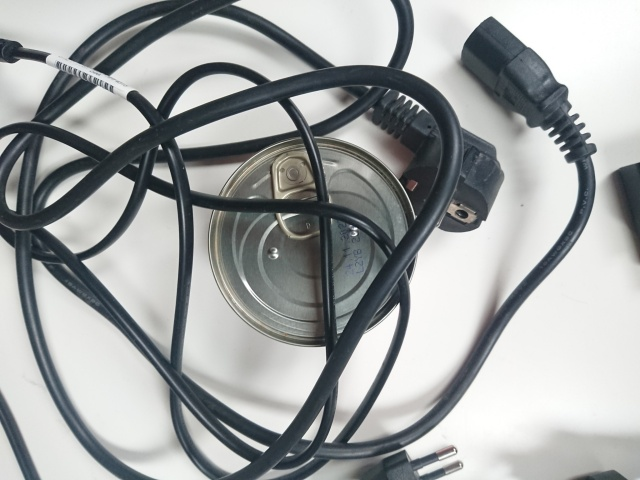Podravka Luncheon Meat 150g: (203, 132, 422, 352)
